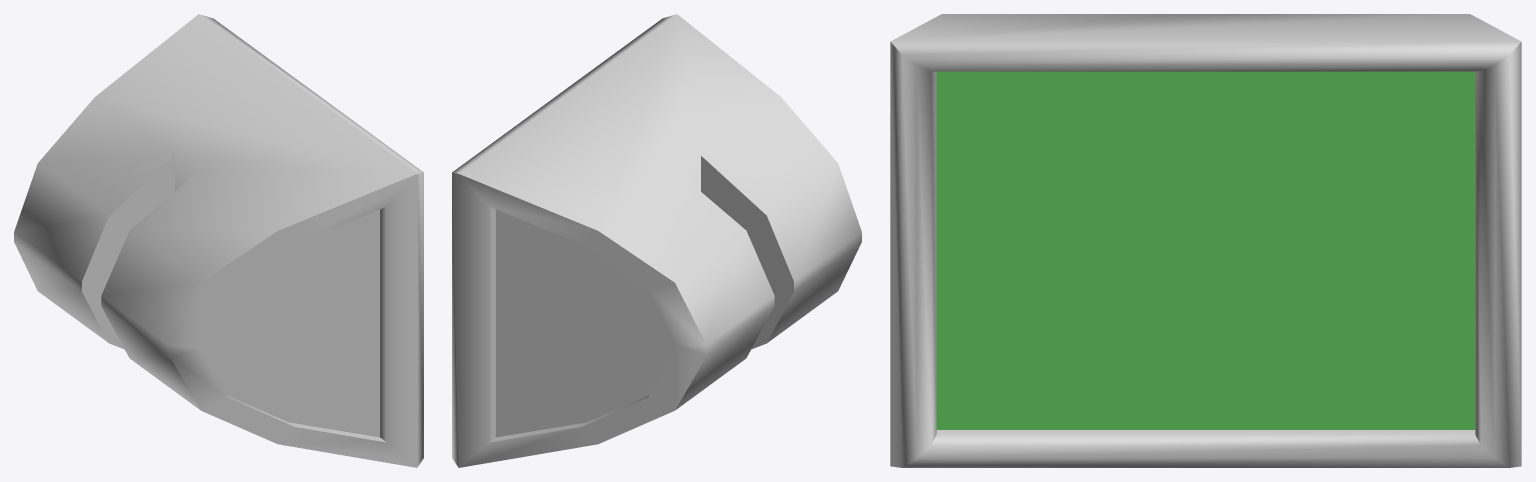
The model's file is Construction_lamp.fbx.
3 views of the same model, side by side, from view 1: azimuth 30°, elevation 25°; view 2: azimuth 150°, elevation 25°; view 3: azimuth 270°, elevation 25° (orthographic). The views are drawn at different scales.
Visible parts, largest first — view 1: ConstructionLamp; view 2: ConstructionLamp; view 3: ConstructionLamp.
Boxes of the visible parts, box(x1,y1,x2,y2) form: ConstructionLamp: box(14, 14, 423, 467); ConstructionLamp: box(452, 14, 861, 467); ConstructionLamp: box(890, 14, 1521, 467).
Bounding box in the file's own units: 30 × 37.12 × 49.97.
